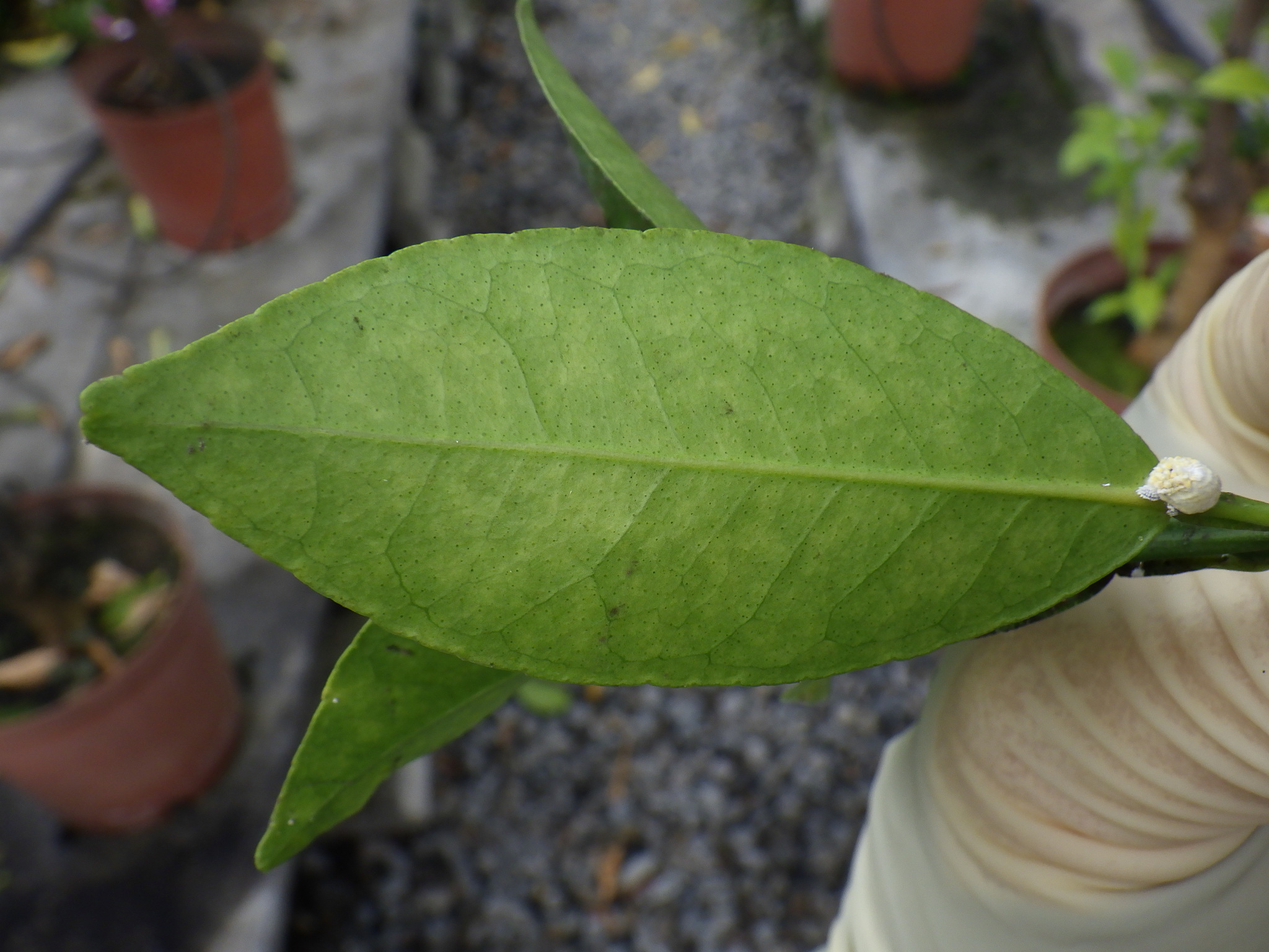Scale_Insect: (1136, 456, 1221, 515)
